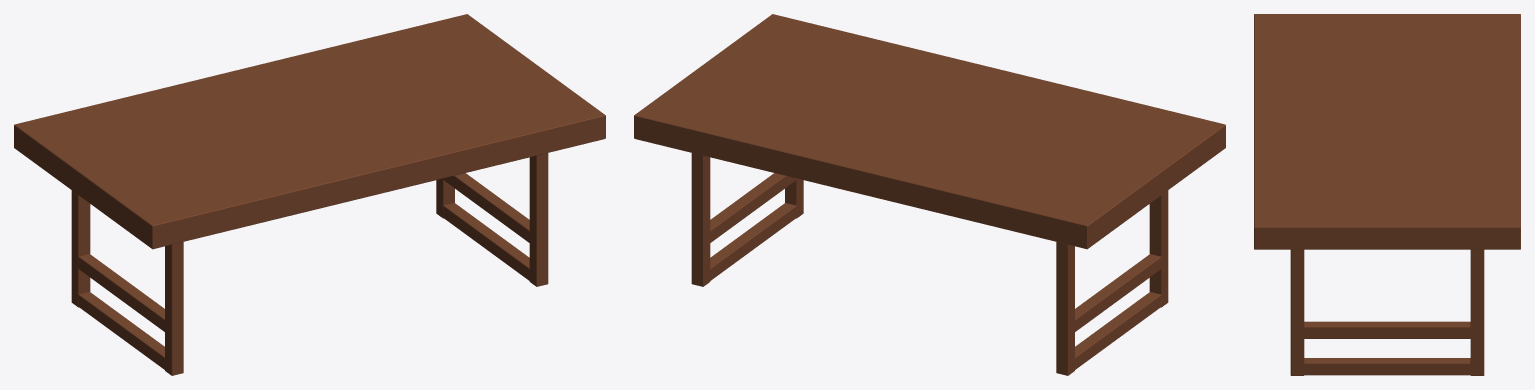
File: WoodKitchenTable1.glb
3 renders of one model, left to right at view 1: azimuth 30°, elevation 25°; view 2: azimuth 150°, elevation 25°; view 3: azimuth 270°, elevation 25°, orthographic. The views are drawn at different scales.
Visible parts, largest first — view 1: WoodKitchenTable1; view 2: WoodKitchenTable1; view 3: WoodKitchenTable1.
Part boxes in pixels (<box>): WoodKitchenTable1: <box>14,14,605,375</box>; WoodKitchenTable1: <box>634,14,1225,375</box>; WoodKitchenTable1: <box>1254,14,1520,375</box>.
Bounding box in the file's own units: 2.42 × 0.8858 × 1.28.
